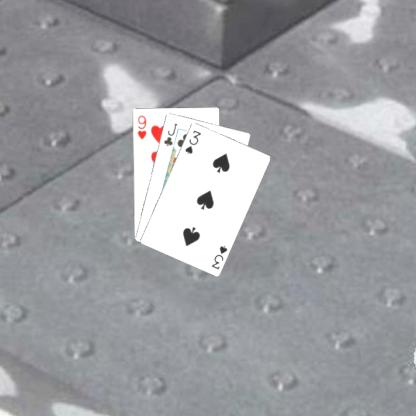3S: (182, 127, 202, 155), (208, 242, 228, 270)
9H: (134, 112, 148, 140)
JC: (161, 121, 178, 148)
